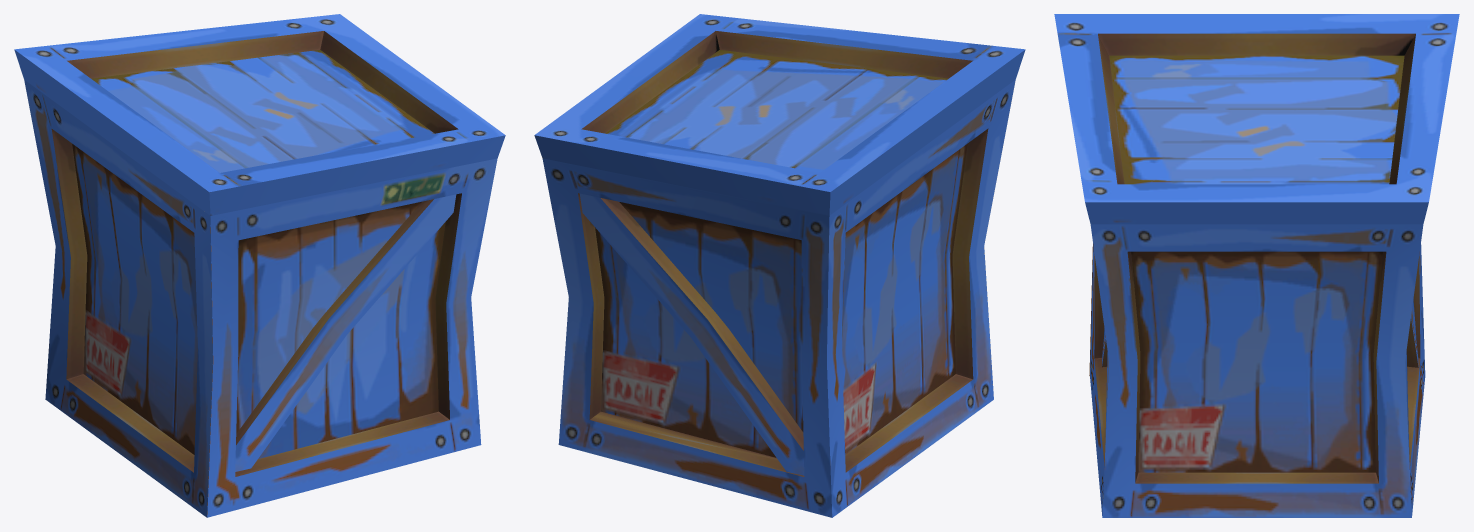
The model's file is supply_drop_box_-_fortnite.glb.
3 renders of one model, left to right at view 1: azimuth 30°, elevation 25°; view 2: azimuth 150°, elevation 25°; view 3: azimuth 270°, elevation 25°, orthographic. The views are drawn at different scales.
Parts seen in each view (by area): view 1: Prop_Wood_Crate_SupplyDrop.mo_0; view 2: Prop_Wood_Crate_SupplyDrop.mo_0; view 3: Prop_Wood_Crate_SupplyDrop.mo_0.
Part boxes in pixels (box(x1,y1,x2,y2)): Prop_Wood_Crate_SupplyDrop.mo_0: box(14, 14, 505, 517); Prop_Wood_Crate_SupplyDrop.mo_0: box(534, 14, 1025, 517); Prop_Wood_Crate_SupplyDrop.mo_0: box(1054, 14, 1459, 517).
Size of the model in its own units: 1.27 by 1.33 by 1.38.
Materials: 1 (1 with a texture image).
